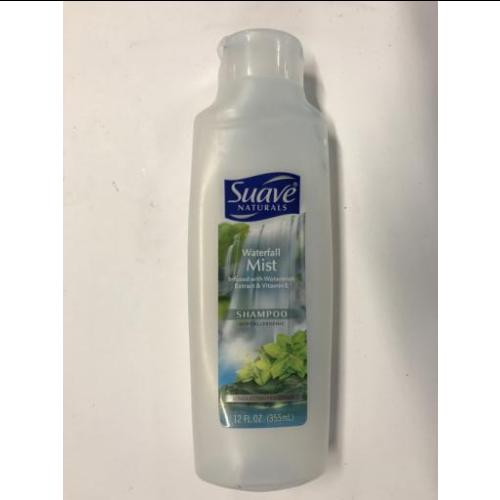plastic: (189, 27, 330, 489)
